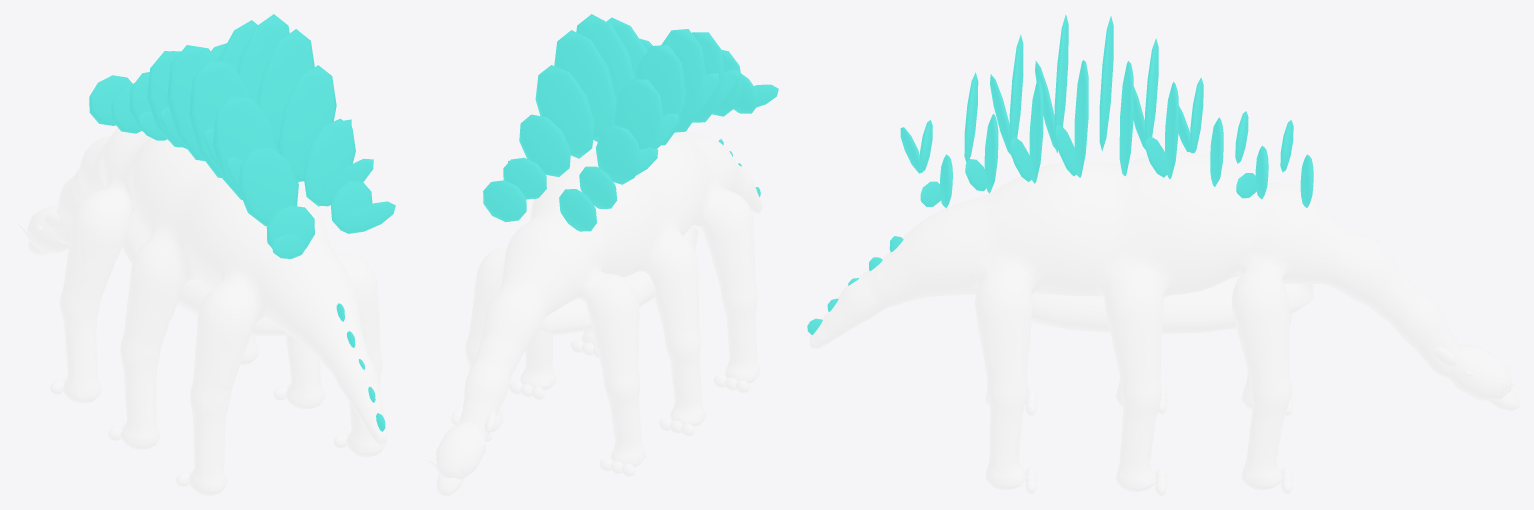
The model's file is glassback.glb.
3 views of the same model, side by side, from view 1: azimuth 30°, elevation 25°; view 2: azimuth 150°, elevation 25°; view 3: azimuth 270°, elevation 25° (orthographic). The views are drawn at different scales.
Visible parts, largest first — view 1: crystal__Body, glass_hide__Body, glass_hide__Tail, glass_hide__LegL1, glass_hide__LegL2, glass_hide__LegL3, glass_hide__Head, glass_hide__LegR2, glass_belly__Body, glass_hide__LegR3, crystal__Tail; view 2: crystal__Body, glass_hide__Body, glass_hide__Head, glass_hide__LegL3, glass_hide__LegL1, glass_hide__LegL2, glass_belly__Body, glass_hide__LegR2, glass_hide__LegR1, glass_hide__Tail, horn__LegL3, horn__LegL1 (+2 smaller); view 3: glass_hide__Body, crystal__Body, glass_hide__Head, glass_belly__Body, glass_hide__LegR1, glass_hide__LegR2, glass_hide__LegR3, glass_hide__Tail.
Part boxes in pixels (box(x1,y1,x2,y2)): crystal__Body: box(89, 14, 395, 258); glass_hide__Body: box(69, 129, 378, 354); glass_hide__Tail: box(294, 296, 387, 443); glass_hide__LegL1: box(59, 245, 119, 403); glass_hide__LegL2: box(120, 294, 177, 449); glass_hide__LegL3: box(188, 338, 246, 495); glass_hide__Head: box(27, 128, 118, 255); glass_hide__LegR2: box(285, 335, 325, 409); glass_belly__Body: box(122, 210, 288, 335); glass_hide__LegR3: box(346, 307, 385, 457); crystal__Tail: box(336, 303, 385, 431); crystal__Body: box(483, 14, 778, 231); glass_hide__Body: box(473, 133, 754, 340); glass_hide__Head: box(436, 230, 576, 495); glass_hide__LegL3: box(707, 244, 760, 383); glass_hide__LegL1: box(593, 330, 645, 467); glass_hide__LegL2: box(654, 286, 705, 426); glass_belly__Body: box(538, 226, 698, 335); glass_hide__LegR2: box(520, 331, 556, 390); glass_hide__LegR1: box(465, 298, 503, 432); glass_hide__Tail: box(731, 154, 762, 213); horn__LegL3: box(713, 374, 749, 392); horn__LegL1: box(599, 458, 635, 476); glass_hide__Body: box(896, 152, 1305, 344); crystal__Body: box(900, 14, 1313, 208); glass_hide__Head: box(1297, 187, 1519, 411); glass_belly__Body: box(1031, 276, 1313, 333); glass_hide__LegR1: box(1238, 328, 1291, 490); glass_hide__LegR2: box(1110, 331, 1161, 491); glass_hide__LegR3: box(978, 328, 1030, 490); glass_hide__Tail: box(809, 242, 927, 348).
Size of the model in its own units: 2.85 by 5.4 by 8.49.
